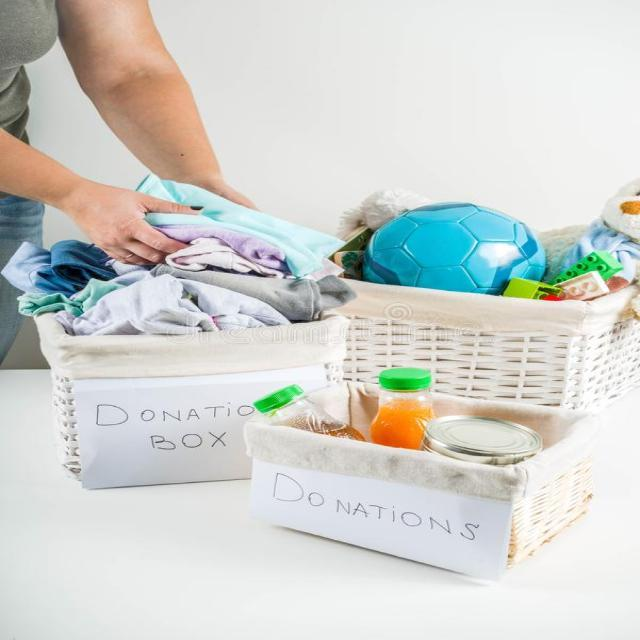clothes: (31, 250, 213, 333)
